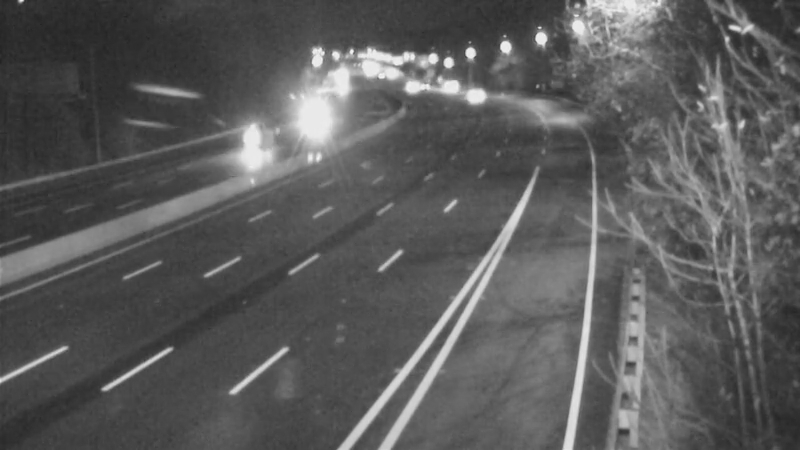vehicle: (384, 62, 434, 112), (415, 59, 465, 109), (450, 67, 500, 117), (225, 110, 275, 160), (292, 95, 342, 145)
